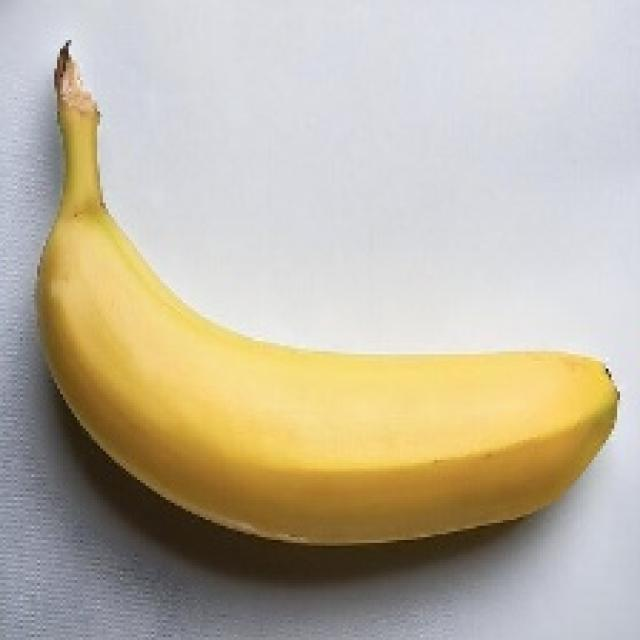Banana: (31, 37, 620, 546)
